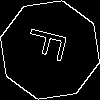F: (25, 25, 77, 66)
